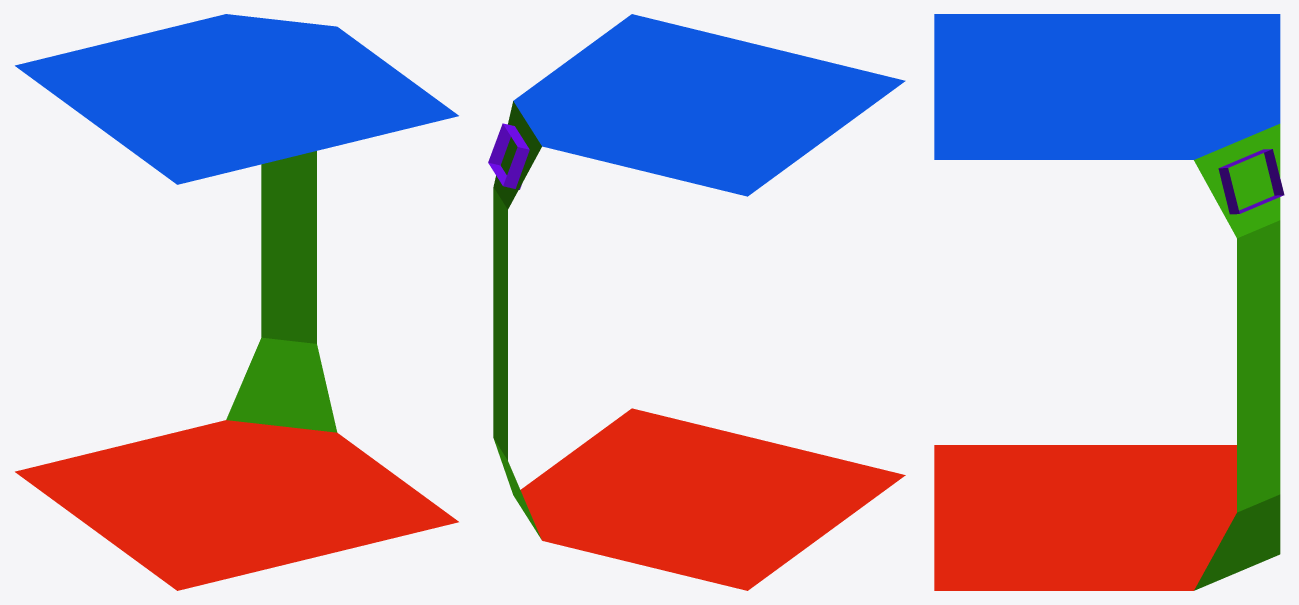
Rendered from inside_corner_angled_w_light.FBX.
The picture shows the model from 3 angles, left to right: view 1: azimuth 30°, elevation 25°; view 2: azimuth 150°, elevation 25°; view 3: azimuth 270°, elevation 25°; orthographic projection. The views are drawn at different scales.
Parts seen in each view (by area): view 1: inner_corner001; view 2: inner_corner001; view 3: inner_corner001.
Part boxes in pixels (<box>): inner_corner001: <box>15,14,458,590</box>; inner_corner001: <box>488,14,905,590</box>; inner_corner001: <box>934,14,1284,590</box>.
Size of the model in its own units: 79.91 by 108 by 79.73.
